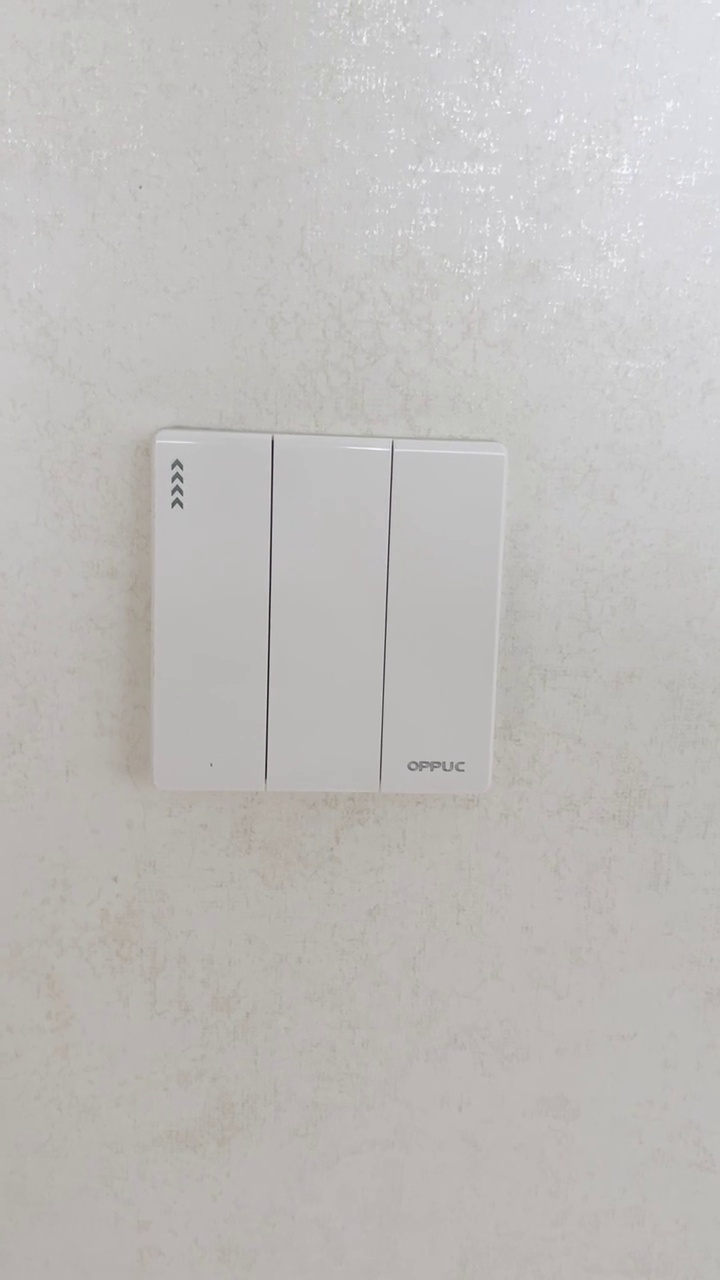button1: (268, 444, 388, 786), (383, 444, 501, 789), (159, 438, 266, 788)
